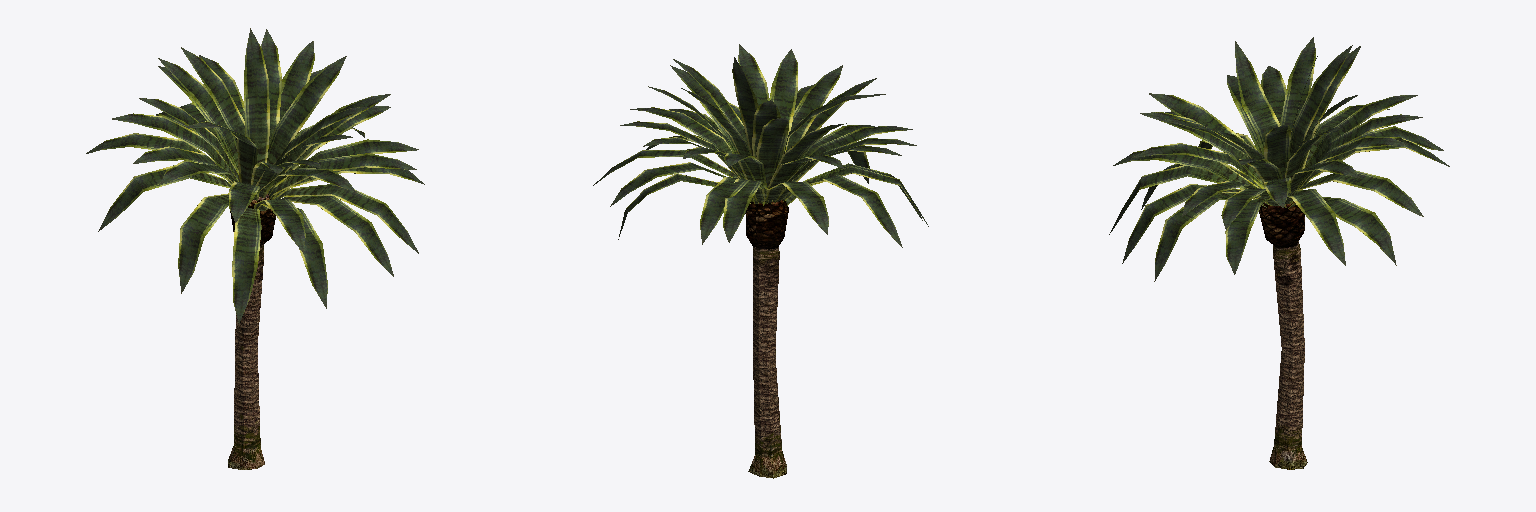
3 views of the same model, side by side, from view 1: azimuth 30°, elevation 25°; view 2: azimuth 150°, elevation 25°; view 3: azimuth 270°, elevation 25° (orthographic).
Visible parts, largest first — view 1: ENV_MP_Iraq_PalmTree_01; view 2: ENV_MP_Iraq_PalmTree_01; view 3: ENV_MP_Iraq_PalmTree_01.
Part boxes in pixels (x1,y1,x2,y2): ENV_MP_Iraq_PalmTree_01: (86,28,424,469); ENV_MP_Iraq_PalmTree_01: (593,44,928,478); ENV_MP_Iraq_PalmTree_01: (1109,37,1449,469).
Size of the model in its own units: 10.63 by 14.54 by 10.76.
Materials: 2 (2 with a texture image).